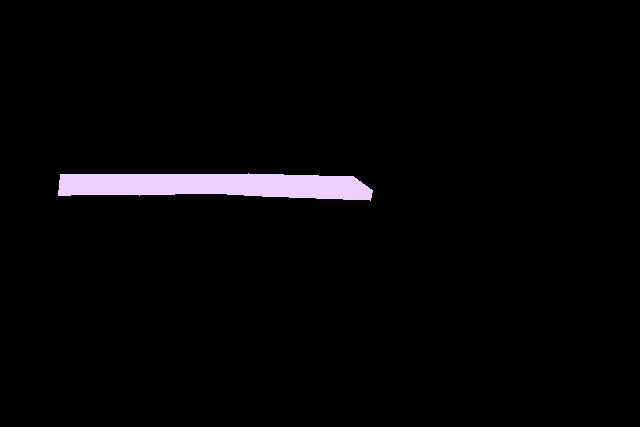Train: (58, 173, 373, 201)
